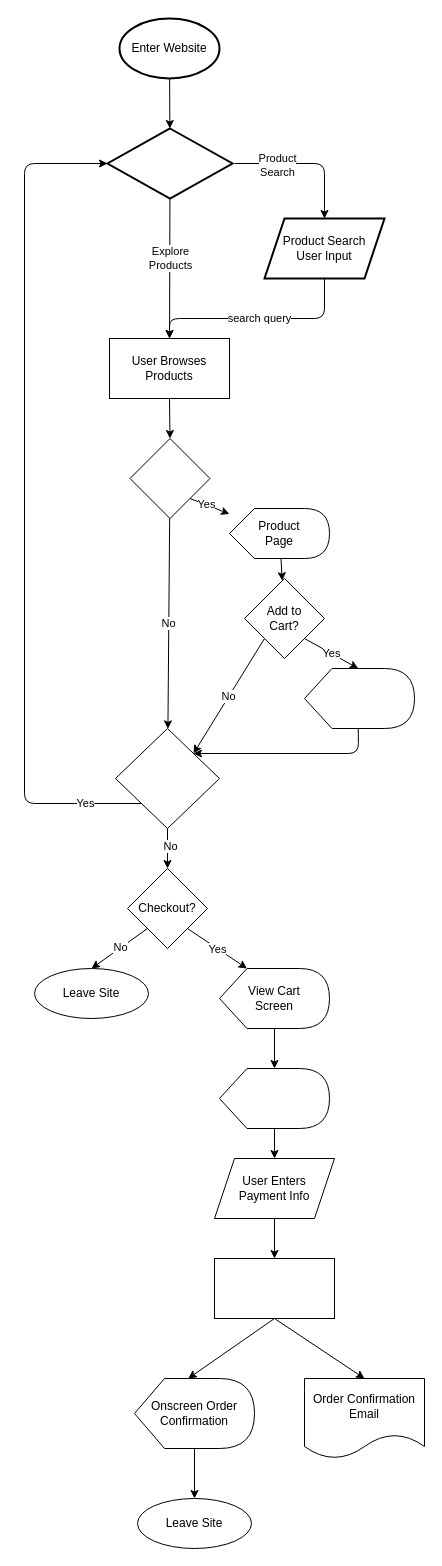
This 442x1566 diagram has some shape labels left out. The shapes that lost their labels are listed below. From the top down, each one's centre as x and y in pixels, then its label:
point (169, 163): What to do next?
point (169, 478): View Product?
point (359, 698): Added to Cart Confirmation
point (167, 778): Continue Shopping?
point (274, 1098): View Payment Screen
point (274, 1288): Payment Processing
